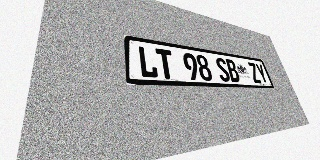8: (195, 54, 213, 81)
9: (182, 52, 201, 80)
B: (224, 59, 241, 82)
L: (137, 45, 159, 78)
S: (214, 57, 231, 82)
T: (155, 48, 176, 79)
Y: (254, 63, 269, 84)
Z: (247, 62, 262, 83)
